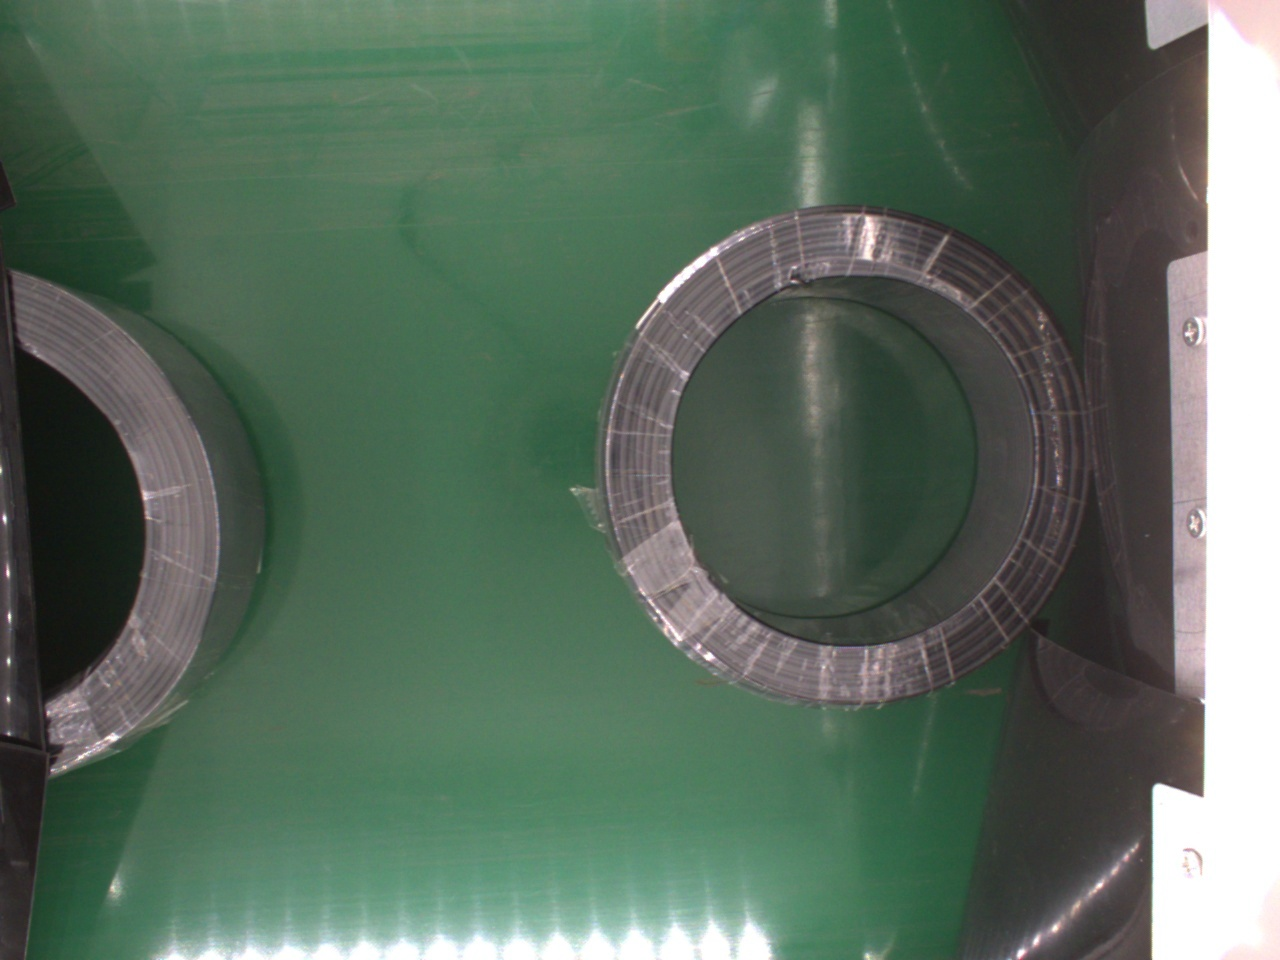black: (597, 202, 1089, 703), (12, 270, 261, 764)
